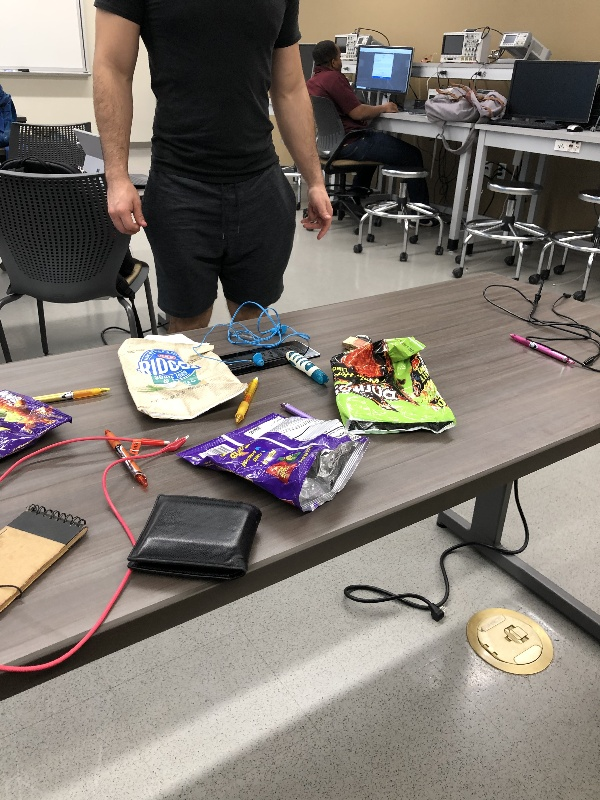bag: (173, 409, 374, 518), (323, 333, 465, 440), (115, 333, 255, 423), (1, 381, 77, 472)
